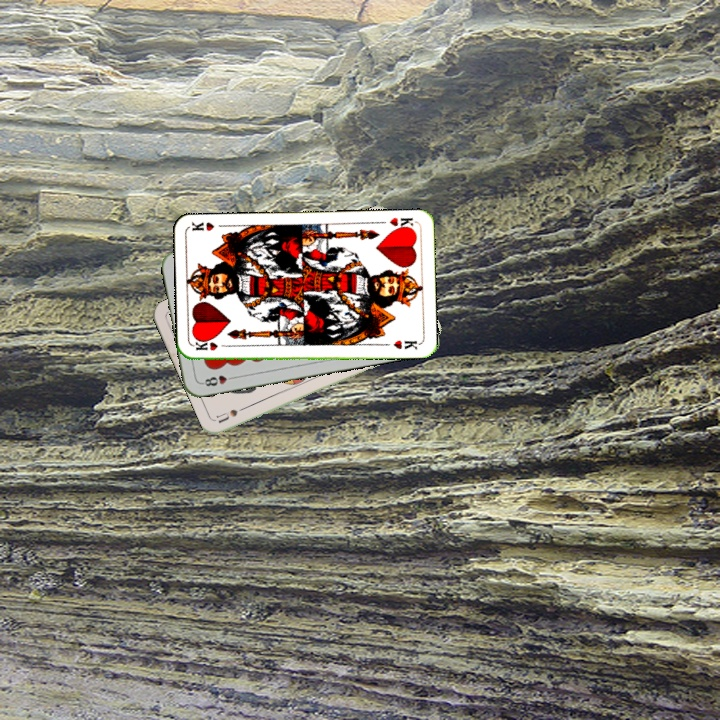H8: (198, 371, 238, 389)
HK: (191, 338, 232, 353), (386, 214, 418, 233)
SU: (213, 401, 253, 426)
